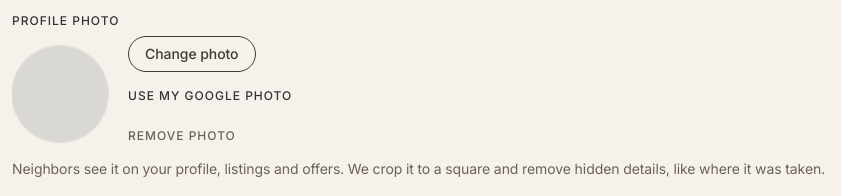
Use my Google photo (T-06) › keeps the uploaded file when the save fails, and says so
Click the button "Use my Google photo" at (210,96), box left=128, top=80, right=292, bottom=112
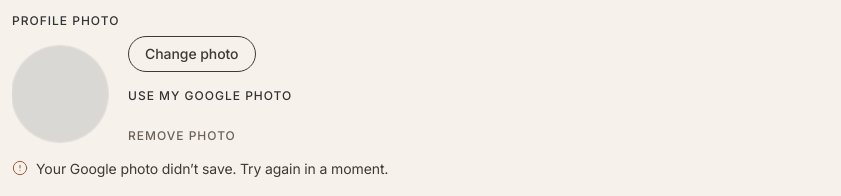
Check: the text "Your Google photo didn’t save. Try again in a moment." is shown, box left=36, top=158, right=388, bottom=179
